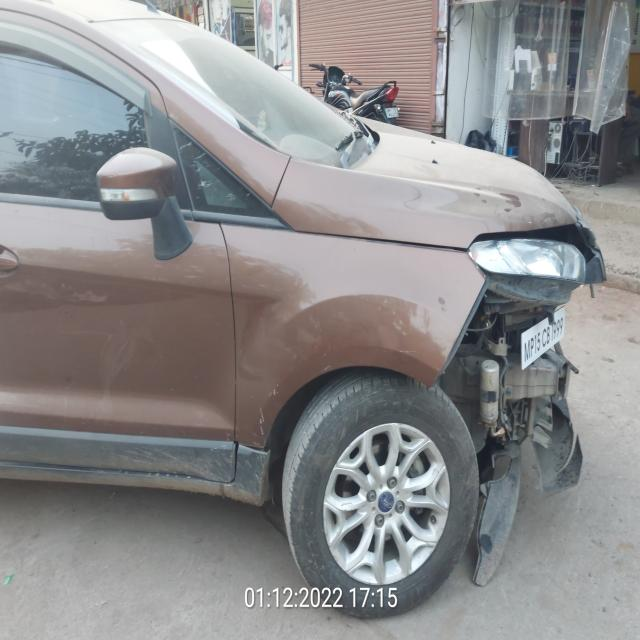damage: (468, 269, 590, 586), (445, 211, 605, 304), (249, 380, 285, 446)
